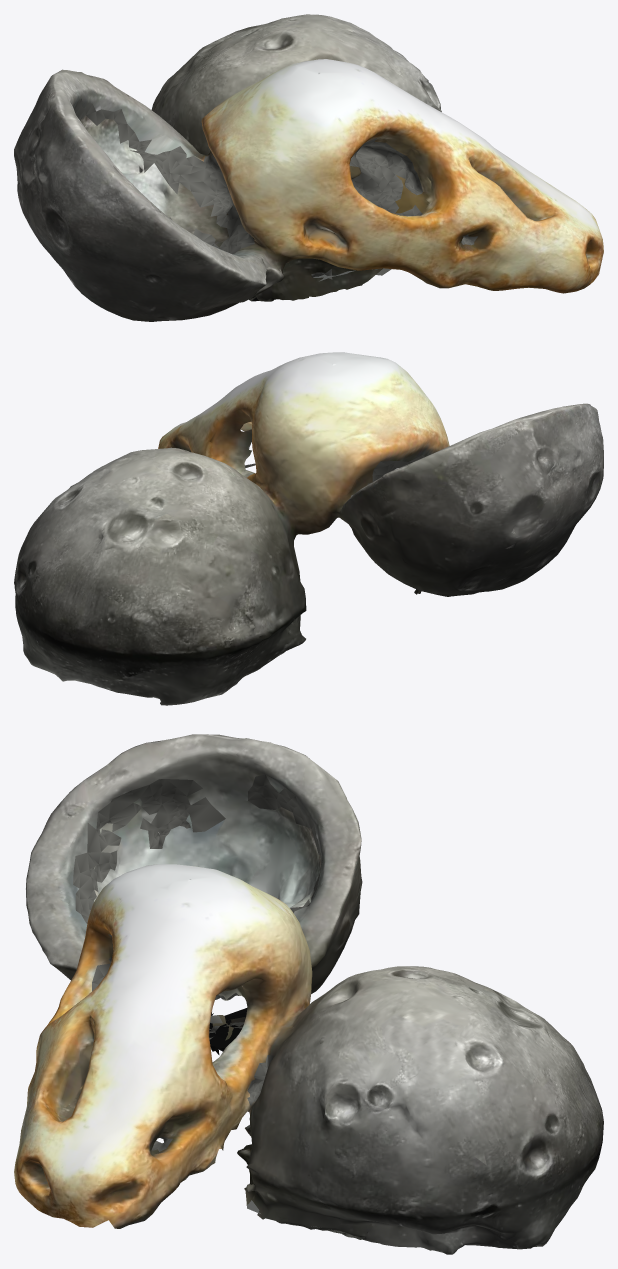
3 renders of one model, top to bottom at view 1: azimuth 30°, elevation 25°; view 2: azimuth 150°, elevation 25°; view 3: azimuth 270°, elevation 25°, orthographic. The views are drawn at different scales.
Visible parts, largest first — view 1: Mesh_0.007; view 2: Mesh_0.007; view 3: Mesh_0.007.
Boxes of the visible parts, box(x1,y1,x2,y2) form: Mesh_0.007: box(14, 14, 603, 321); Mesh_0.007: box(14, 352, 603, 705); Mesh_0.007: box(14, 734, 603, 1254).
Bounding box in the file's own units: 1.69 × 0.9042 × 1.56.
Materials: 6 (5 with a texture image).
